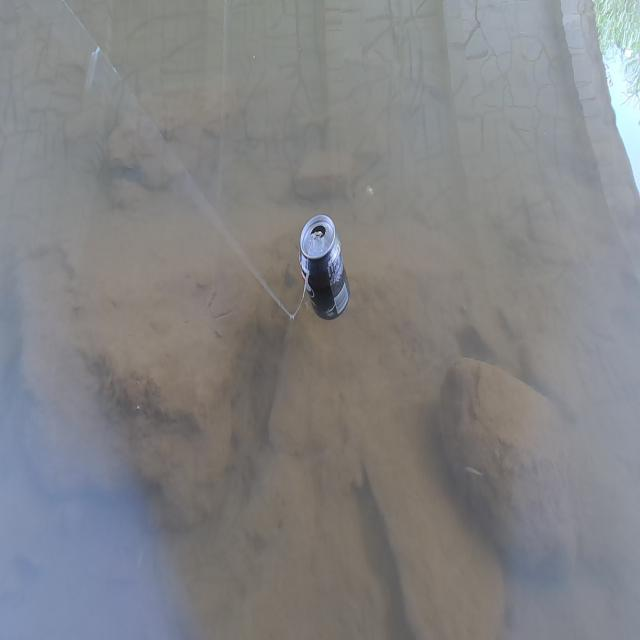Can: (298, 212, 351, 320)
